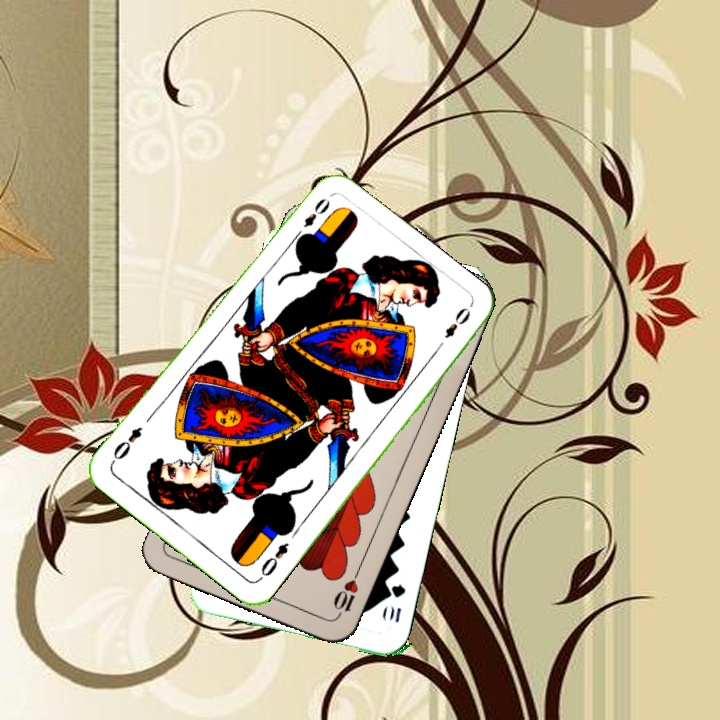EO: (255, 538, 292, 583), (299, 193, 333, 231)
G10: (385, 580, 408, 625)
H10: (329, 565, 363, 621)
